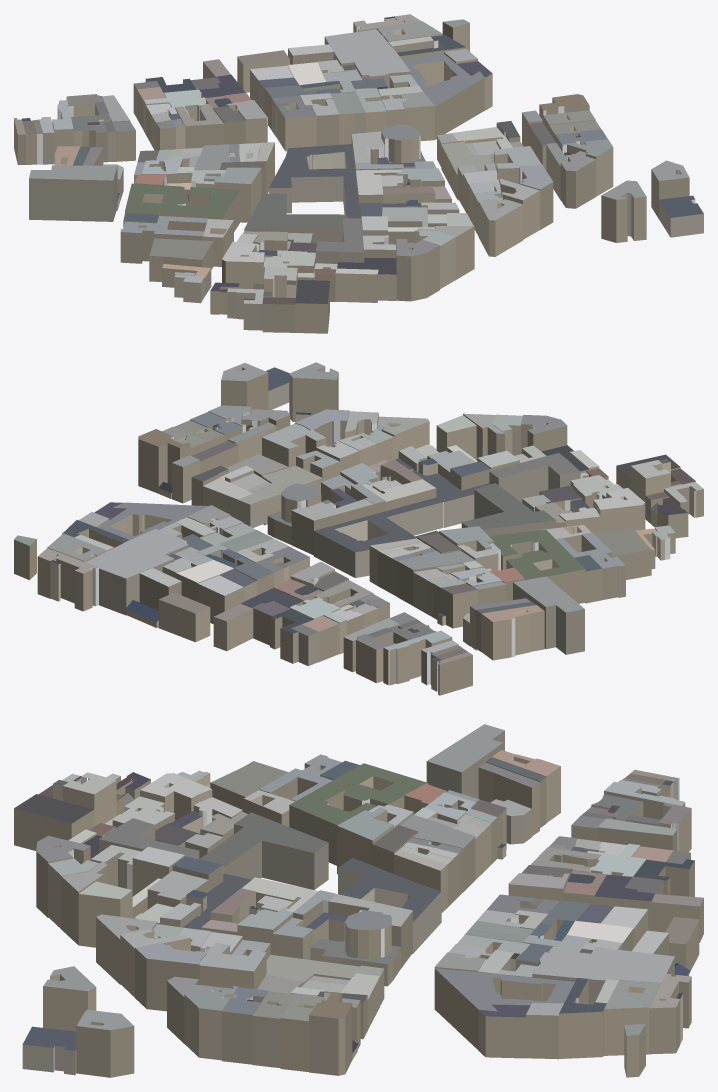
3 renders of one model, top to bottom at view 1: azimuth 30°, elevation 25°; view 2: azimuth 150°, elevation 25°; view 3: azimuth 270°, elevation 25°, orthographic. The views are drawn at different scales.
Visible parts, largest first — view 1: tuile; view 2: tuile; view 3: tuile.
Part boxes in pixels (x1,y1,x2,y2): tuile: (14, 14, 703, 333); tuile: (14, 362, 703, 695); tuile: (14, 724, 703, 1077).
Bounding box in the file's own units: 280 × 26.79 × 267.
